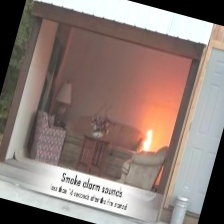fire: (137, 119, 161, 155)
